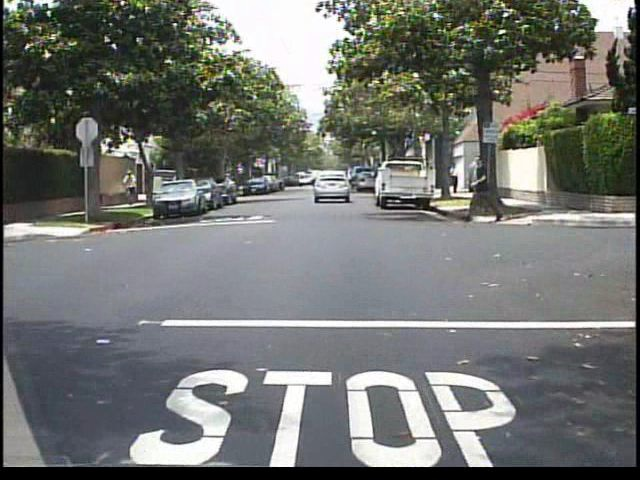person: (456, 151, 504, 226), (121, 167, 143, 205), (169, 169, 186, 202), (450, 160, 462, 198)
